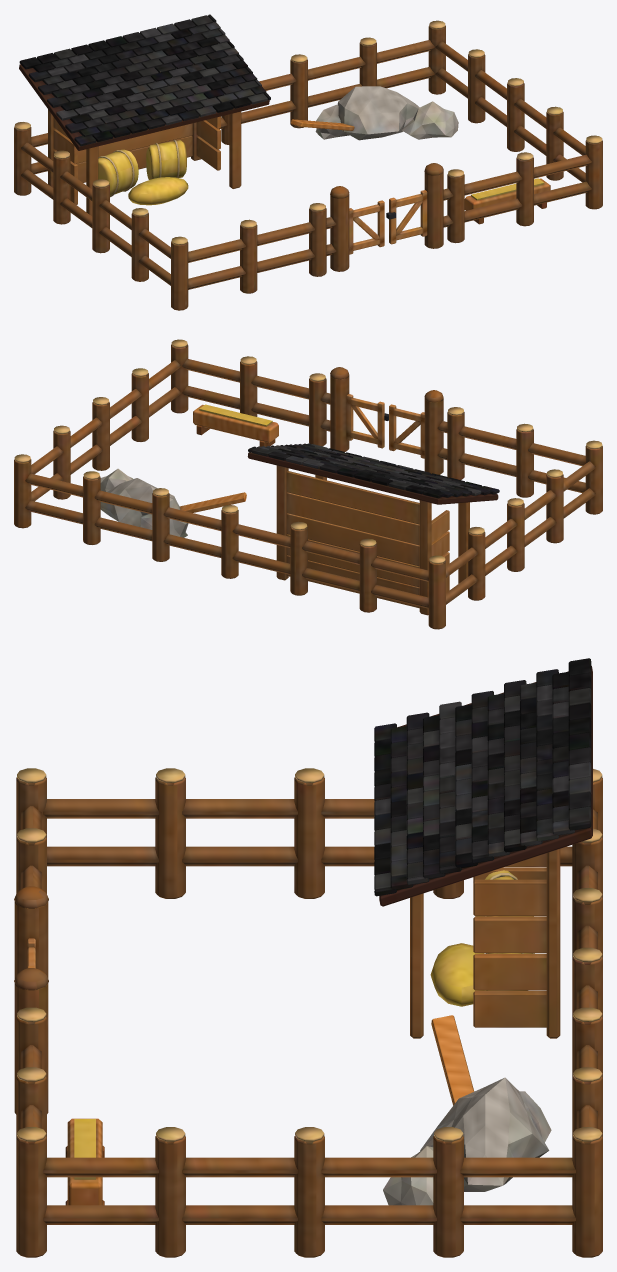
File: alpine_yard.glb
3 views of the same model, one above another, from view 1: azimuth 30°, elevation 25°; view 2: azimuth 150°, elevation 25°; view 3: azimuth 270°, elevation 25° (orthographic). The views are drawn at different scales.
Parts seen in each view (by area): view 1: alpine_yard, gate1, gate0; view 2: alpine_yard, gate1, gate0; view 3: alpine_yard.
Part boxes in pixels (bbox=[...]): alpine_yard: bbox=[14, 14, 602, 310]; gate1: bbox=[386, 190, 427, 244]; gate0: bbox=[349, 200, 384, 254]; alpine_yard: bbox=[14, 339, 602, 629]; gate1: bbox=[346, 394, 388, 448]; gate0: bbox=[389, 404, 424, 458]; alpine_yard: bbox=[14, 658, 602, 1257].
Size of the model in its own units: 3 by 0.9342 by 2.01.
1 material, 1 textured.
